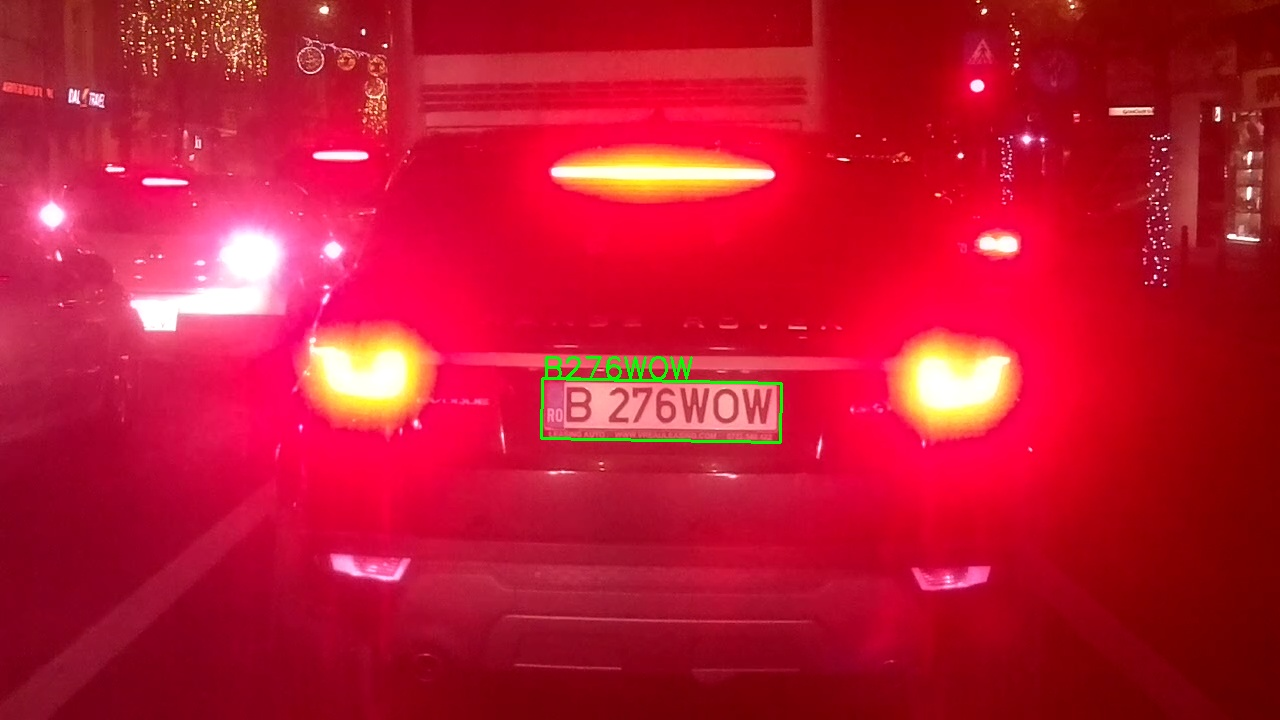license-plate: (540, 378, 782, 444)
